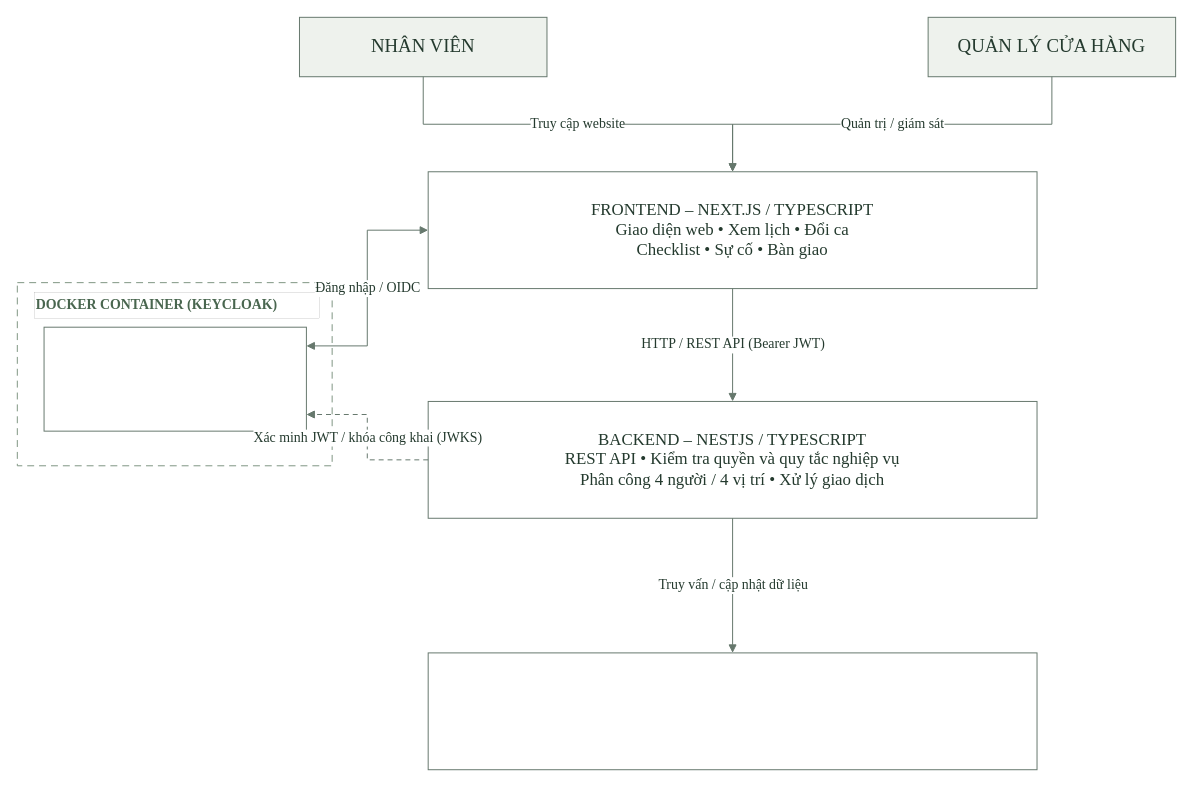
This 1193x787 diagram has some shape labels left out. Each missing label, with the centre of its shape:
KEYCLOAK – OIDC Xác thực đăng nhập • Cấp token JWT: the point at 174,378
MICROSOFT SQL SERVER 13 bảng dữ liệu • Khóa chính/ngoại • Giao dịch: the point at 732,711
